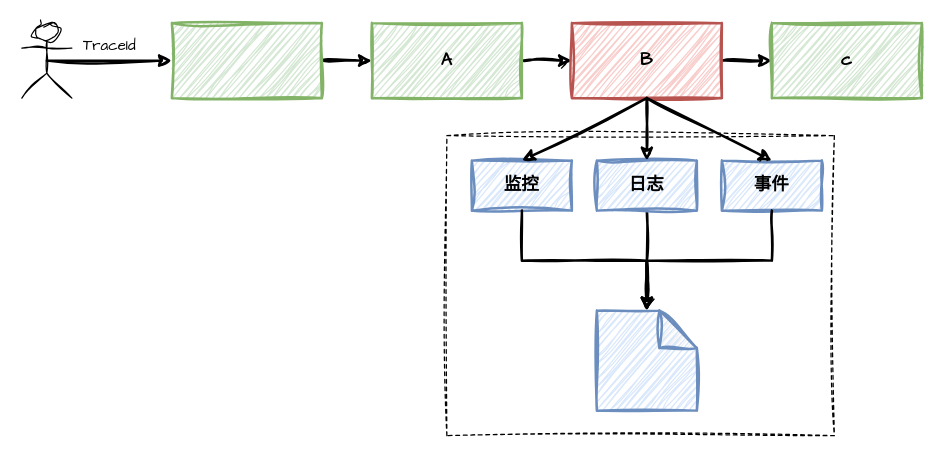
This 945x458 diagram has some shape labels left out. Each missing label, with the centre of its shape:
"AI分析报告" belongs at point 646,360.
"Entry" belongs at point 246,60.
